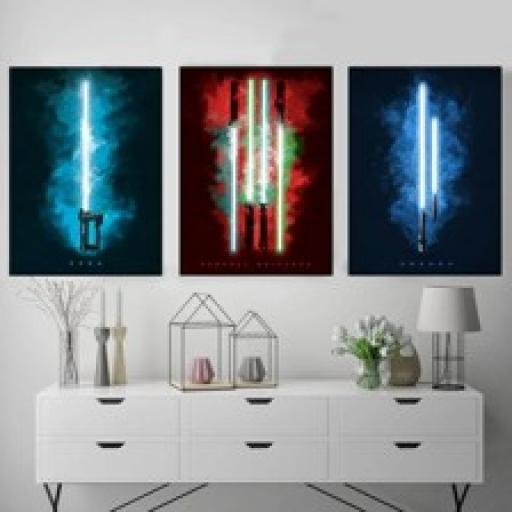lightsaber: (79, 80, 104, 254), (259, 77, 269, 253), (275, 79, 285, 254), (416, 82, 426, 252), (246, 78, 255, 252), (229, 82, 238, 254), (432, 117, 438, 222)
